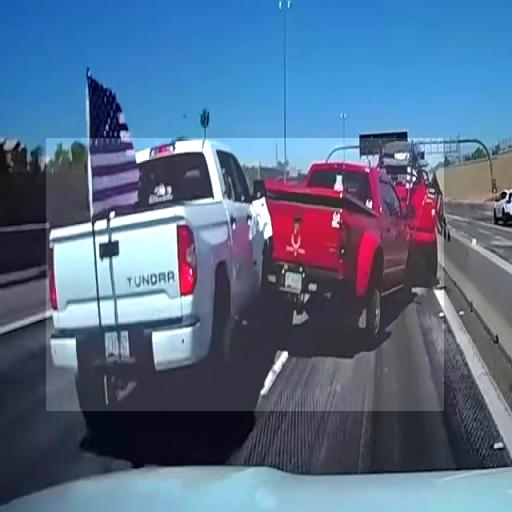小汽车撞小汽车: (46, 138, 444, 411)
